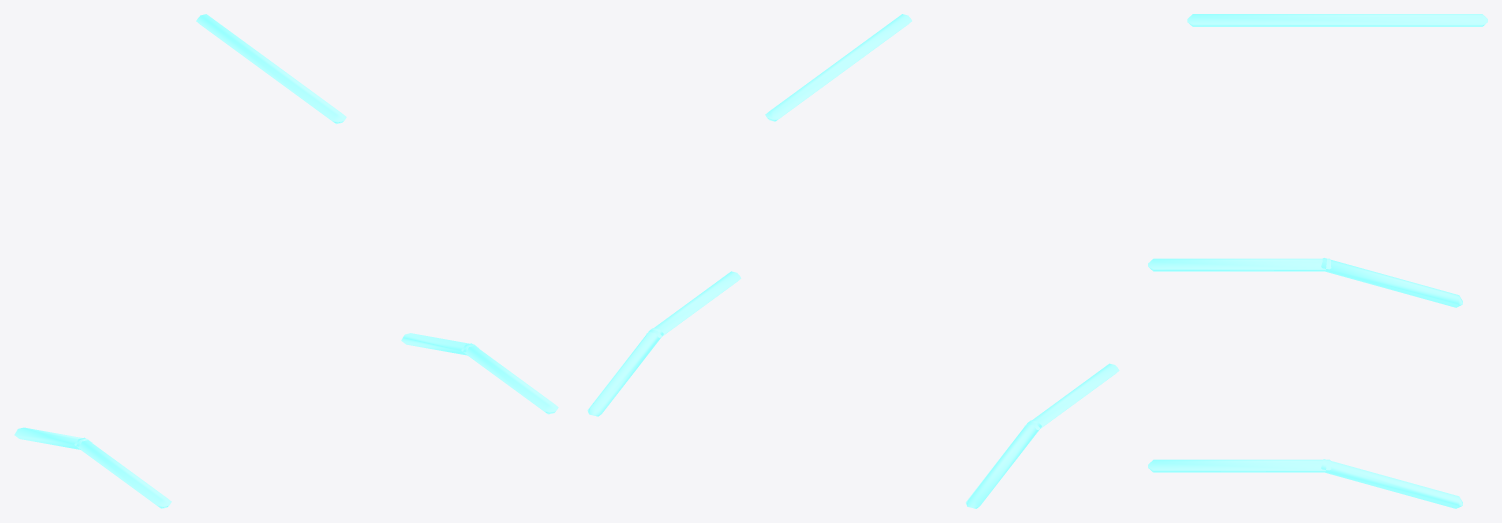
Rendered from Estela_Casco_Neon.fbx.
The picture shows the model from 3 angles, left to right: view 1: azimuth 30°, elevation 25°; view 2: azimuth 150°, elevation 25°; view 3: azimuth 270°, elevation 25°; orthographic projection. The views are drawn at different scales.
Visible parts, largest first — view 1: Estela_Casco_Neon; view 2: Estela_Casco_Neon; view 3: Estela_Casco_Neon.
Boxes of the visible parts, x1,y1,x2,y2 form: Estela_Casco_Neon: (14,14,558,508); Estela_Casco_Neon: (587,14,1119,508); Estela_Casco_Neon: (1148,14,1487,508).
Bounding box in the file's own units: 1.34 × 1.17 × 0.9249.
